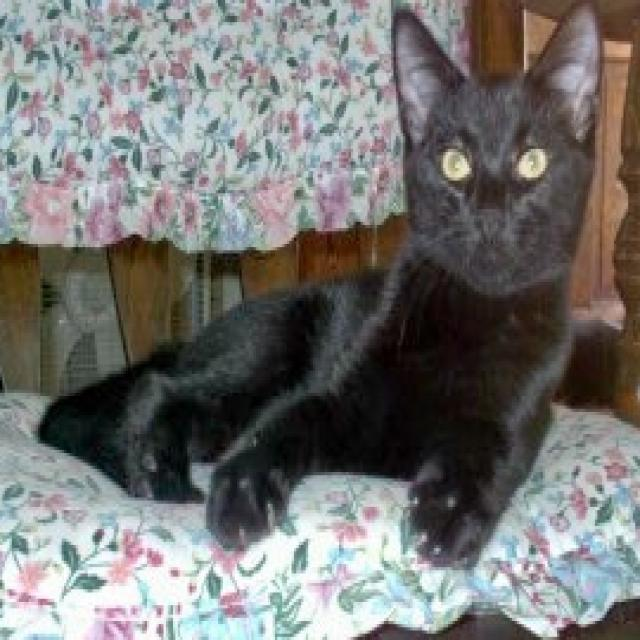Bombay: (28, 0, 607, 577)
